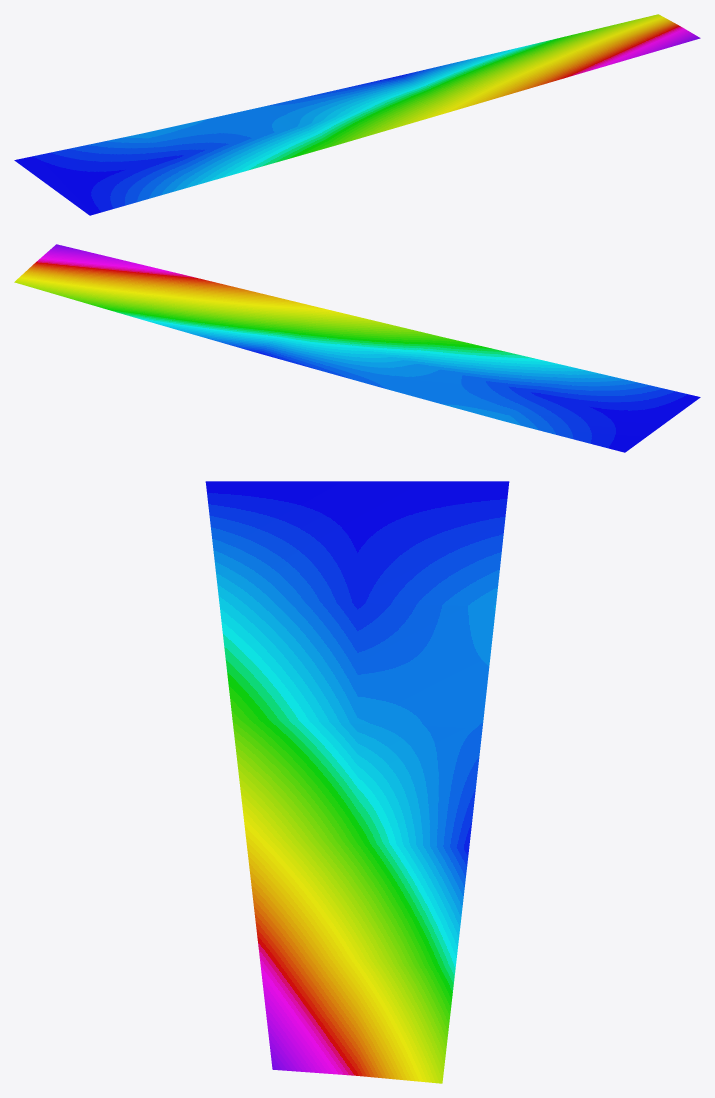
The picture shows the model from 3 angles, top to bottom: view 1: azimuth 30°, elevation 25°; view 2: azimuth 150°, elevation 25°; view 3: azimuth 270°, elevation 25°; orthographic projection. The views are drawn at different scales.
Parts seen in each view (by area): view 1: Elements; view 2: Elements; view 3: Elements.
Part boxes in pixels (<box>): Elements: <box>14,14,700,215</box>; Elements: <box>14,244,700,452</box>; Elements: <box>205,481,509,1083</box>.
Size of the model in its own units: 1 by 0.0204 by 0.2095.
1 material, 1 textured.
